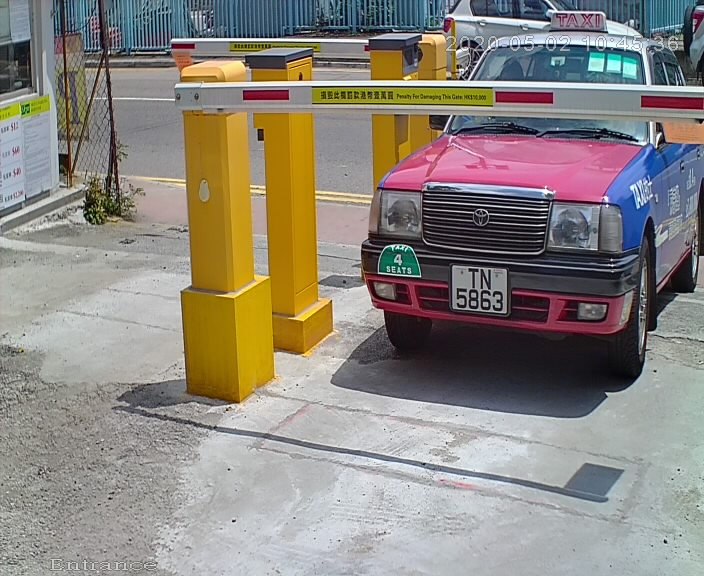taxi: (357, 2, 688, 379)
taxi_mark: (367, 233, 434, 295)
